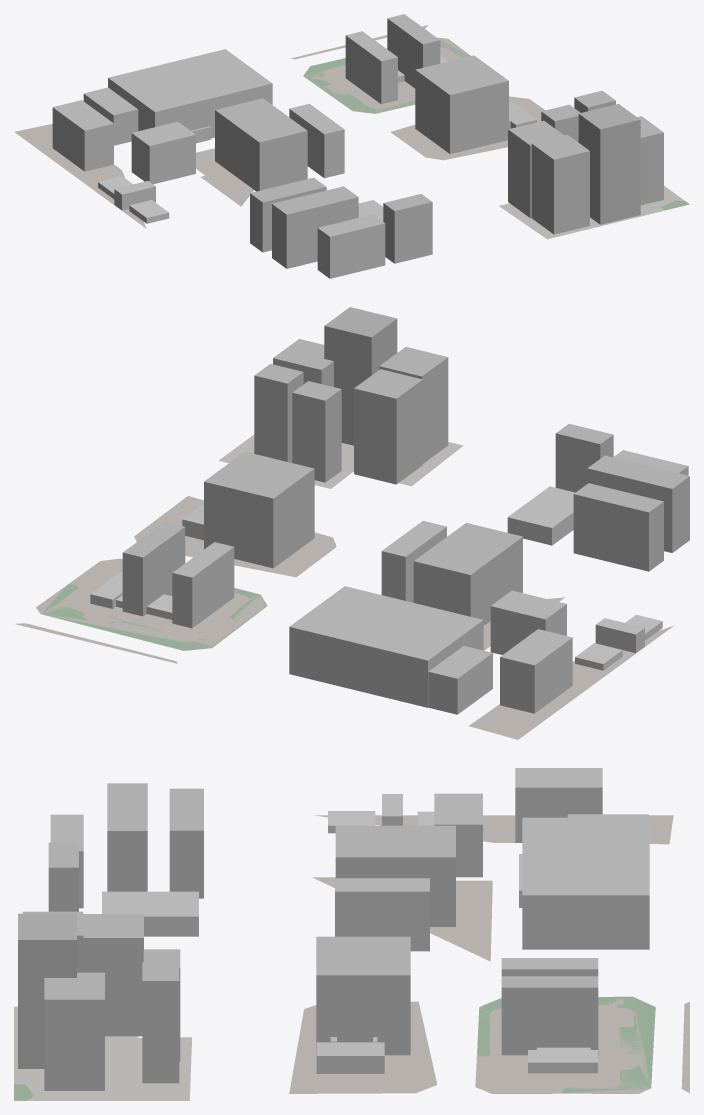
The model's file is 118_85_mid.glb.
3 views of the same model, one above another, from view 1: azimuth 30°, elevation 25°; view 2: azimuth 150°, elevation 25°; view 3: azimuth 270°, elevation 25° (orthographic). The views are drawn at different scales.
Bounding box in the file's own units: 500 × 106 × 500.
